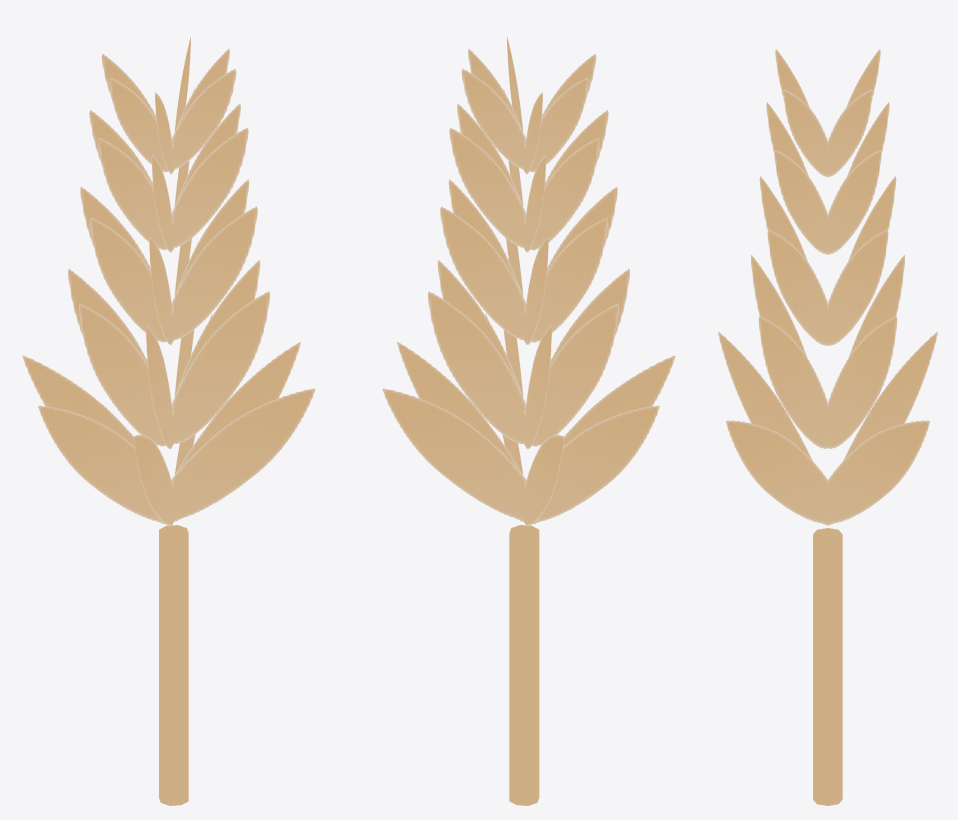
Rendered from Flowers_n03_13.fbx.
The picture shows the model from 3 angles, left to right: view 1: azimuth 30°, elevation 25°; view 2: azimuth 150°, elevation 25°; view 3: azimuth 270°, elevation 25°; orthographic projection.
Parts seen in each view (by area): view 1: polySurface554; view 2: polySurface554; view 3: polySurface554.
Boxes of the visible parts, left/top/right/bottom form: polySurface554: left=22, top=36, right=315, bottom=805; polySurface554: left=382, top=36, right=675, bottom=805; polySurface554: left=718, top=49, right=937, bottom=805.
Size of the model in its own units: 18.39 by 46.36 by 13.01.
Materials: 1 (1 with a texture image).
